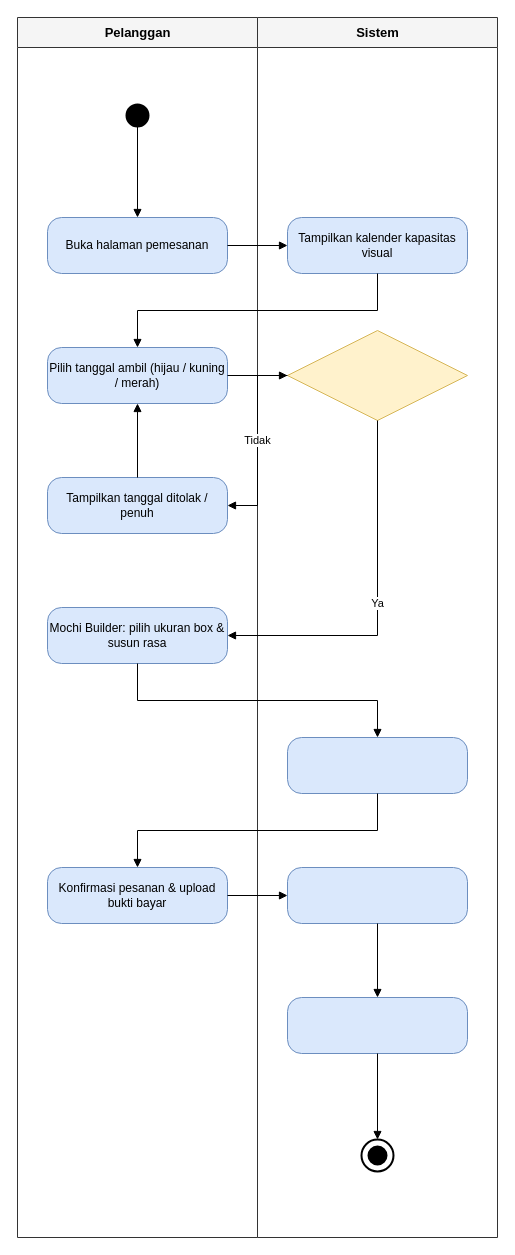
The diagram is 515 pixels wide and 1255 high, and some of its shapes have lost their labels. The shapes that lost their labels are listed below. From the top down, each one's box as (x1, y1, x2, y2) in pixels, then its label:
(286, 330, 468, 420): Slot tersedia & min. H-1?
(286, 736, 468, 794): Hitung total harga & estimasi waktu siap
(286, 866, 468, 924): Simpan pesanan (Status: Diterima)
(286, 996, 468, 1054): Tampilkan konfirmasi pesanan
